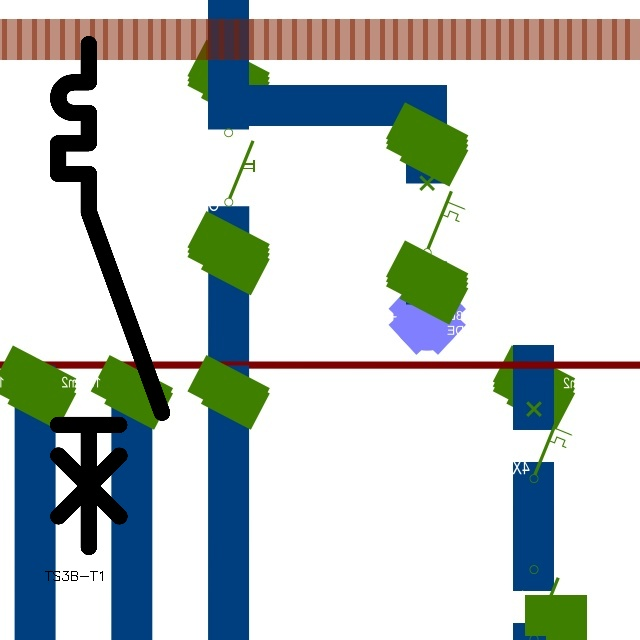interruptor_termomagnetico: (45, 31, 174, 560)
